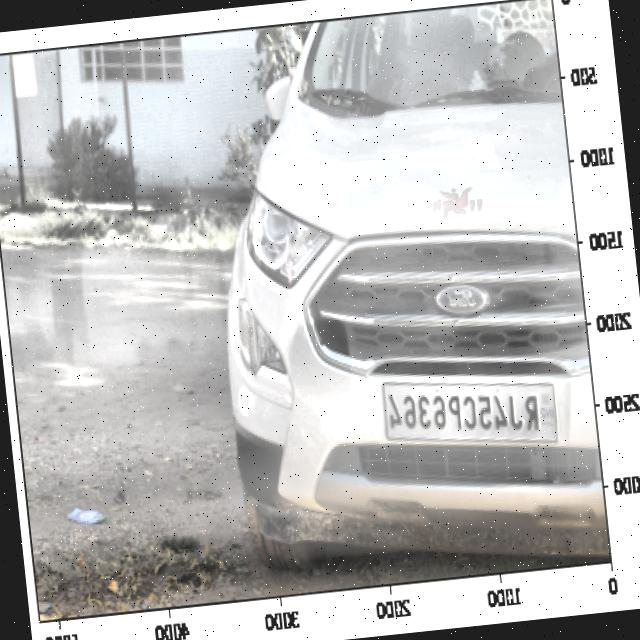license_plate: (382, 371, 544, 448)
